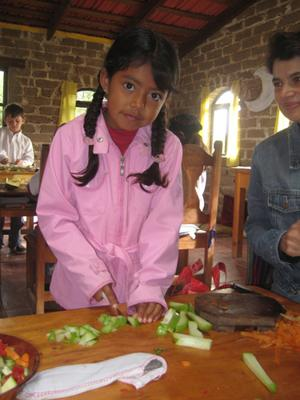person: (38, 26, 186, 329)
